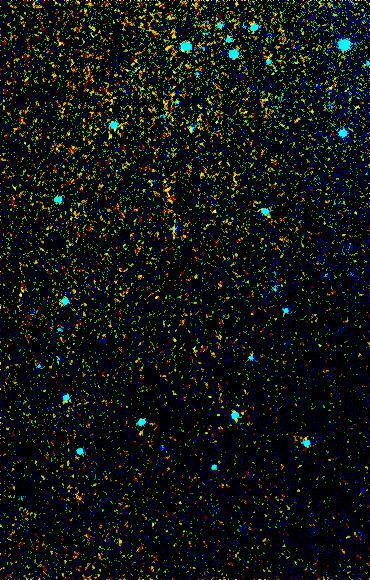star: (126, 419, 156, 449)
